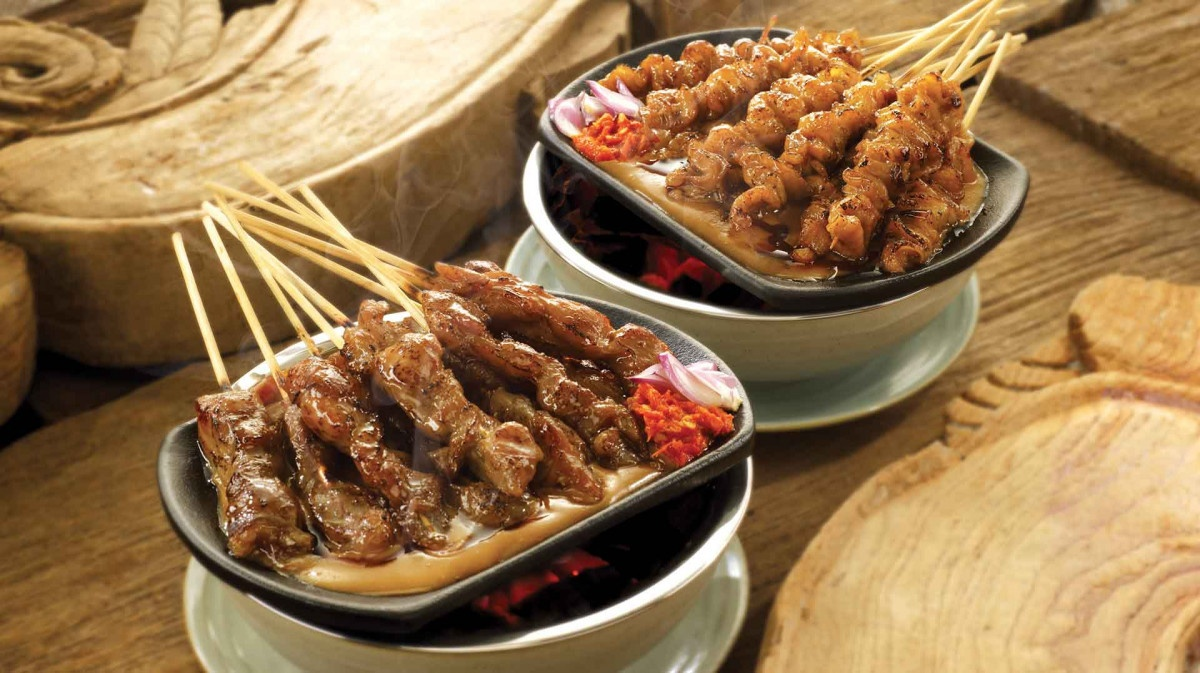sate: (193, 258, 680, 576), (586, 17, 991, 283)
